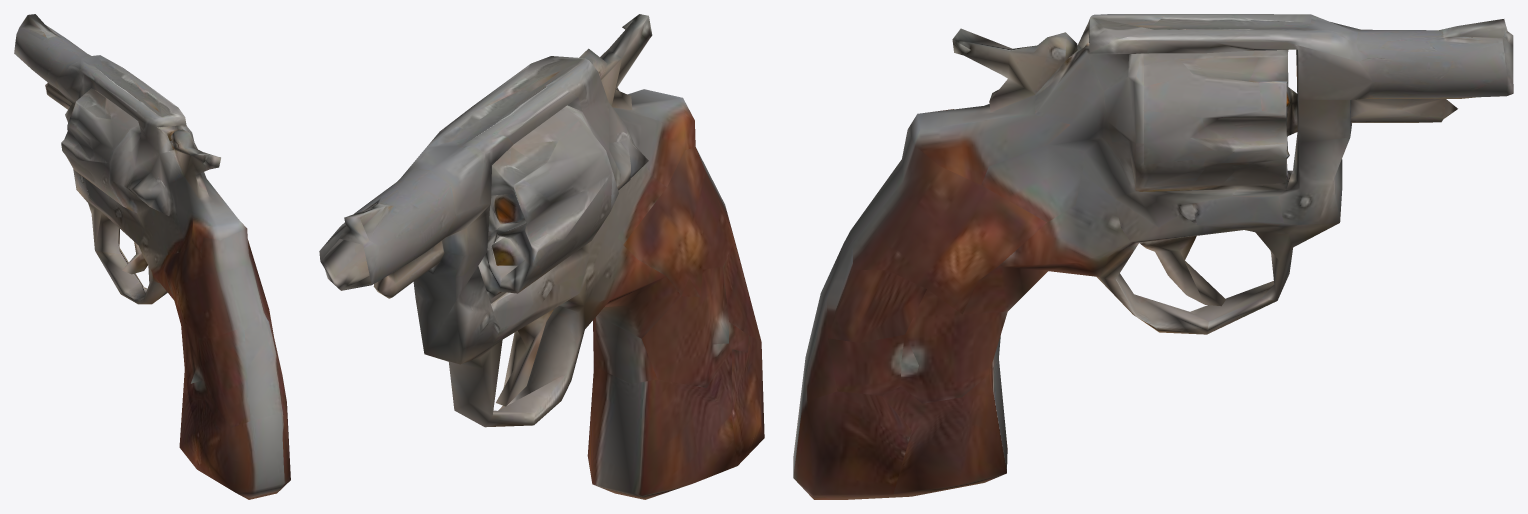
File: 左轮手枪.glb
3 views of the same model, side by side, from view 1: azimuth 30°, elevation 25°; view 2: azimuth 150°, elevation 25°; view 3: azimuth 270°, elevation 25° (orthographic). The views are drawn at different scales.
Parts seen in each view (by area): view 1: tripo_node_928720de-4371-4c69-a6c9-b4cc9a4c5120; view 2: tripo_node_928720de-4371-4c69-a6c9-b4cc9a4c5120; view 3: tripo_node_928720de-4371-4c69-a6c9-b4cc9a4c5120.
Part boxes in pixels (x1=…): tripo_node_928720de-4371-4c69-a6c9-b4cc9a4c5120: x1=14, y1=14, x2=290, y2=499; tripo_node_928720de-4371-4c69-a6c9-b4cc9a4c5120: x1=319, y1=14, x2=764, y2=499; tripo_node_928720de-4371-4c69-a6c9-b4cc9a4c5120: x1=793, y1=14, x2=1513, y2=499.
Bounding box in the file's own units: 0.2117 × 0.7149 × 0.9962.
Materials: 1 (1 with a texture image).
